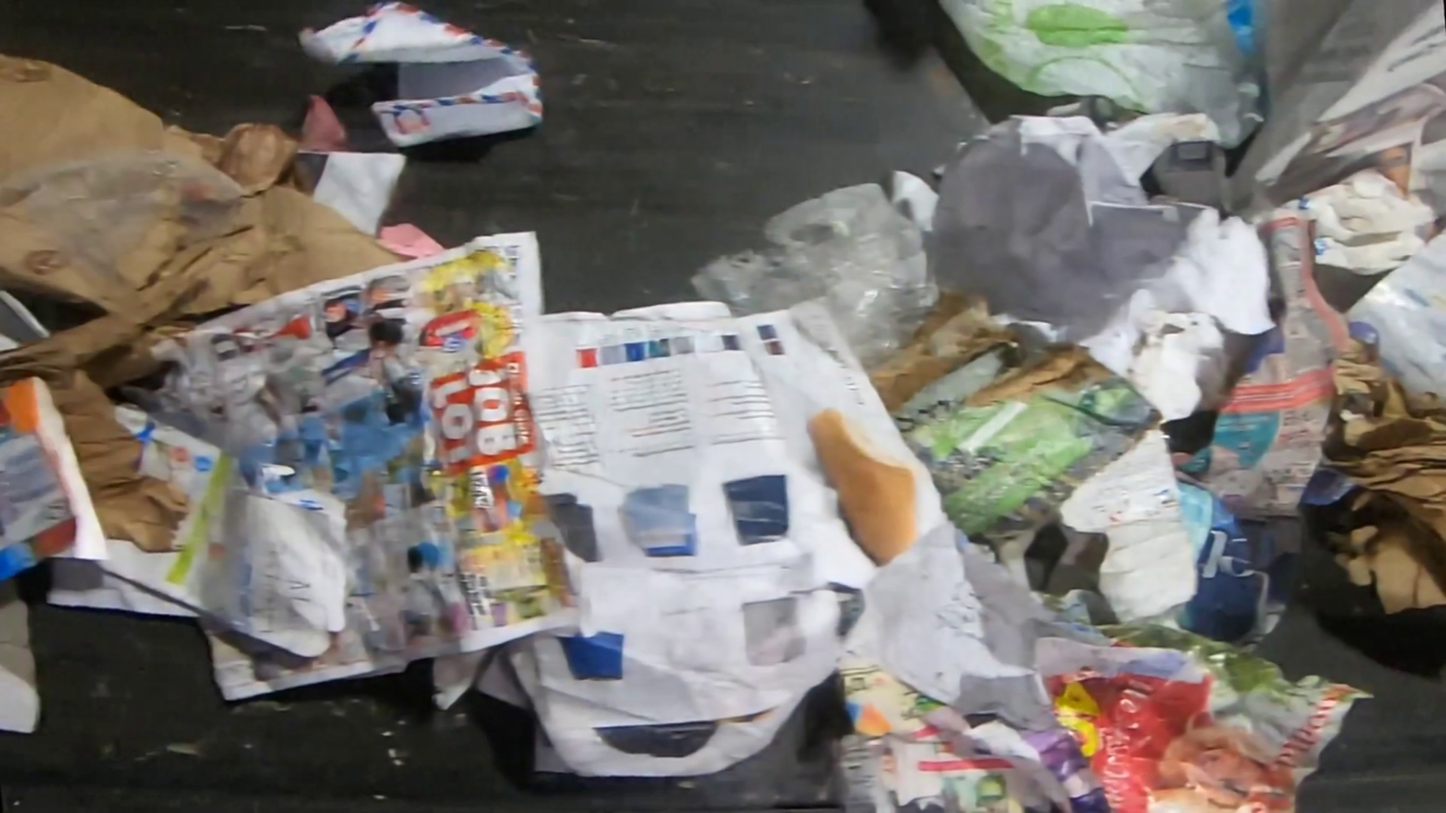cardboard: (0, 53, 418, 316), (866, 287, 1167, 590), (0, 275, 216, 552), (1318, 336, 1446, 615), (805, 405, 921, 567)
plastic: (934, 0, 1274, 151), (685, 182, 942, 370), (0, 149, 246, 291)
